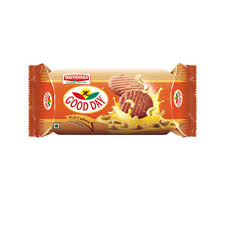gooday-medium: (28, 66, 196, 135)
